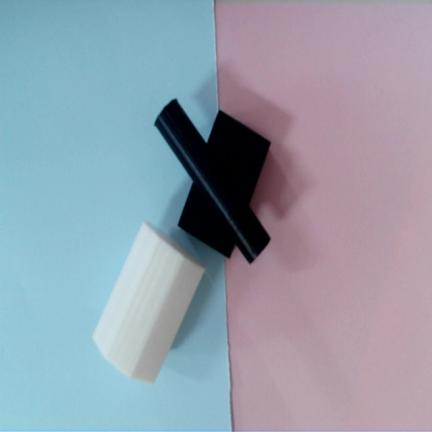Cilindro: (154, 99, 271, 266)
Paralelepipedo: (176, 109, 272, 259)
Prisma_hexagonal: (92, 222, 204, 382)
